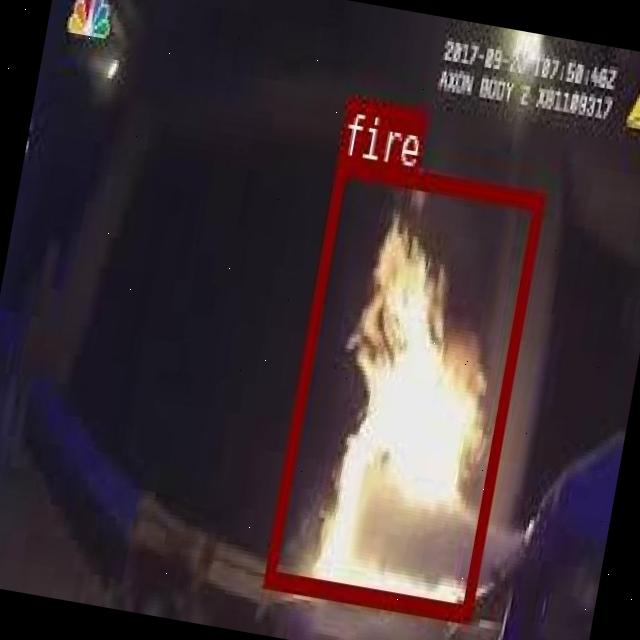fire: (262, 156, 544, 620)
